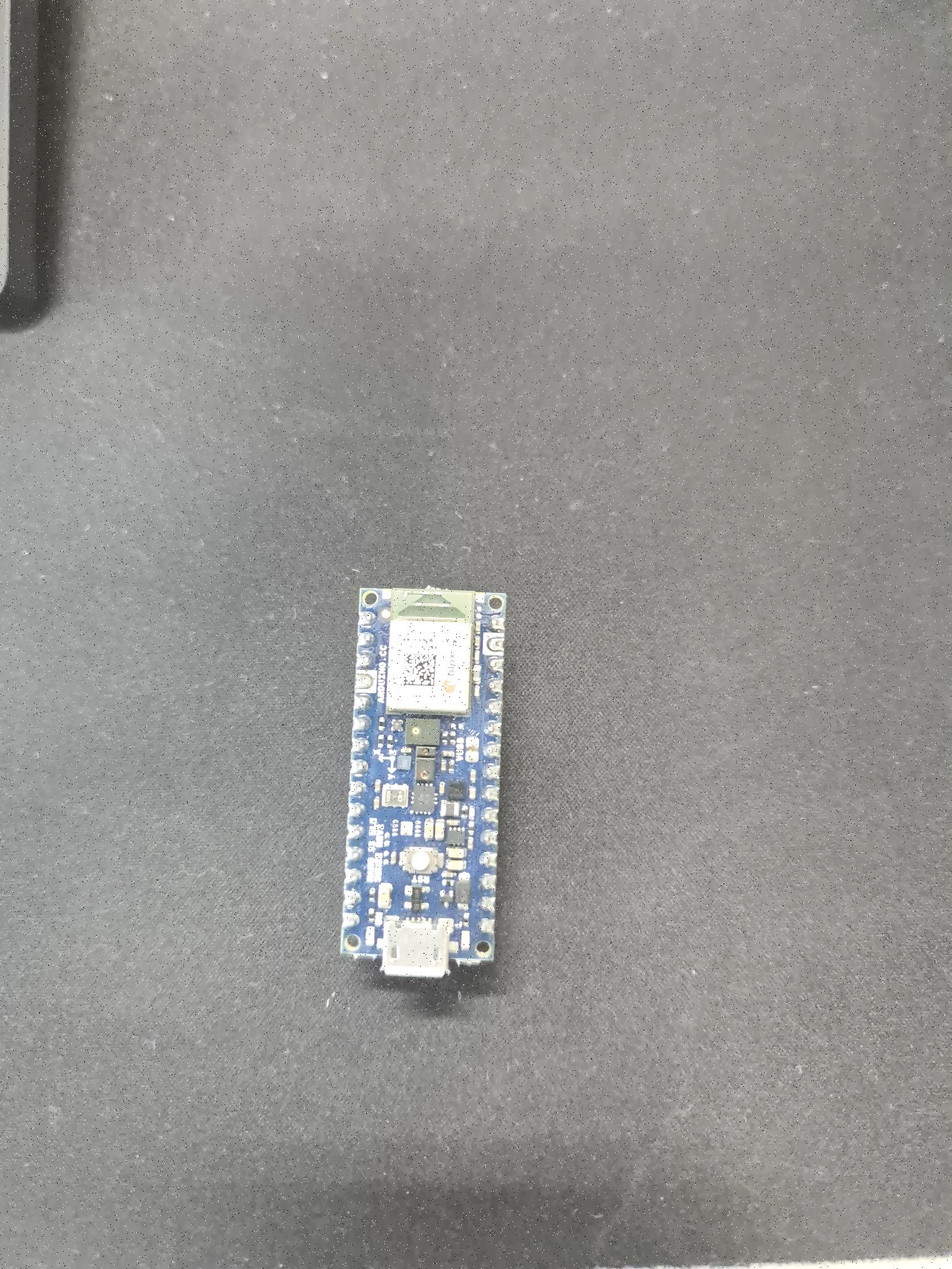arduino-nano-ble-sense: (341, 587, 506, 977)
